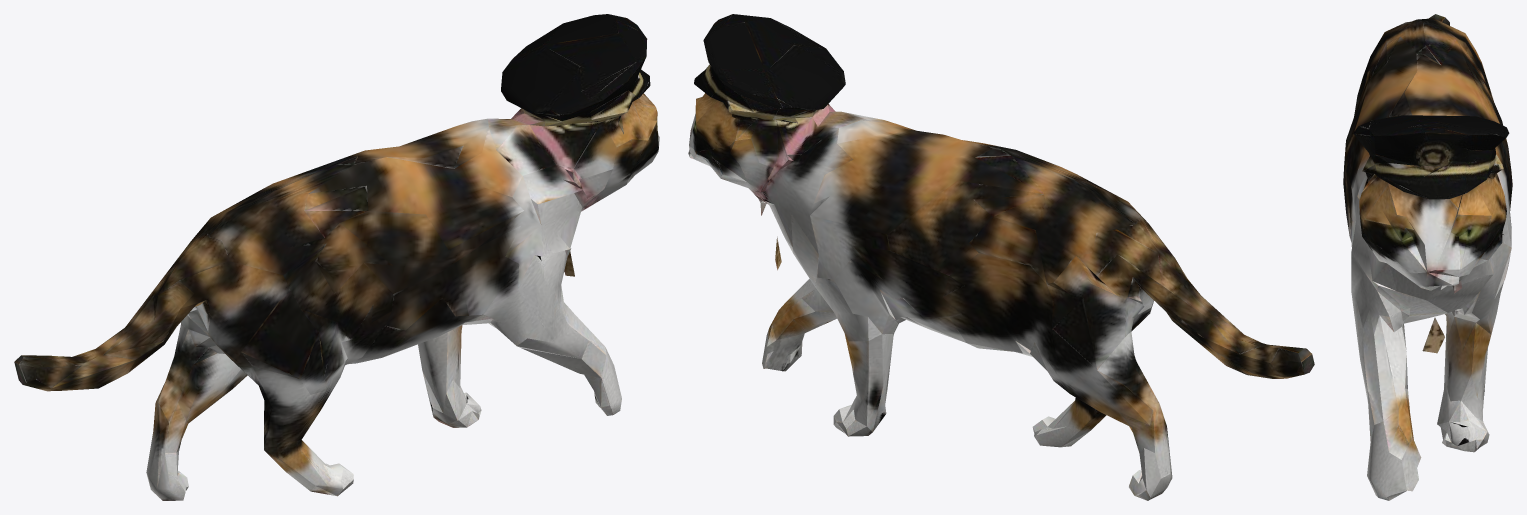
The model's file is TAMAEKI-lo.glb.
3 renders of one model, left to right at view 1: azimuth 30°, elevation 25°; view 2: azimuth 150°, elevation 25°; view 3: azimuth 270°, elevation 25°, orthographic. The views are drawn at different scales.
Parts seen in each view (by area): view 1: output_unwrapped; view 2: output_unwrapped; view 3: output_unwrapped.
Part boxes in pixels (bbox=[...]): output_unwrapped: bbox=[14, 14, 659, 500]; output_unwrapped: bbox=[688, 14, 1314, 500]; output_unwrapped: bbox=[1343, 14, 1512, 500].
Bounding box in the file's own units: 1.79 × 0.999 × 0.3826.
1 material, 1 textured.
